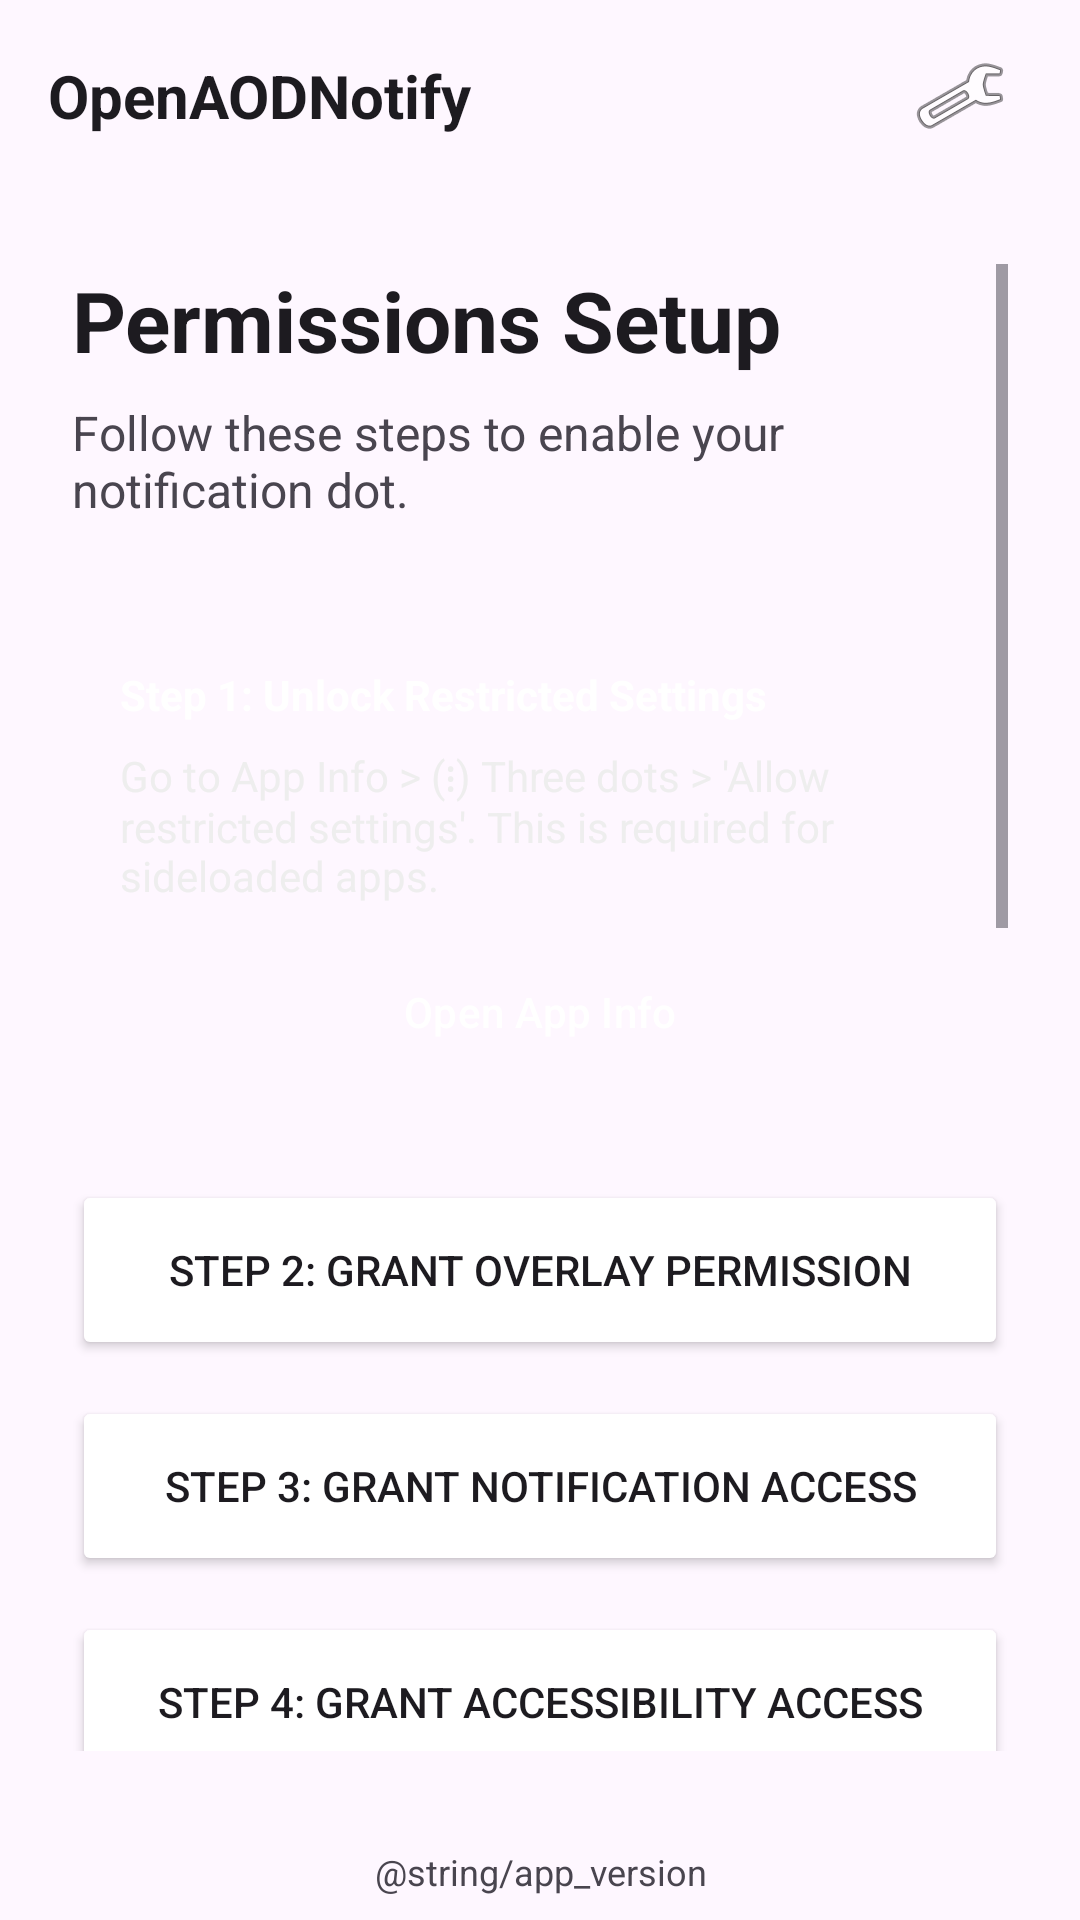

Icons on this 1080px×1920px Android screen, each with the point to tap as point (x, y):
Settings: point (960, 96)
